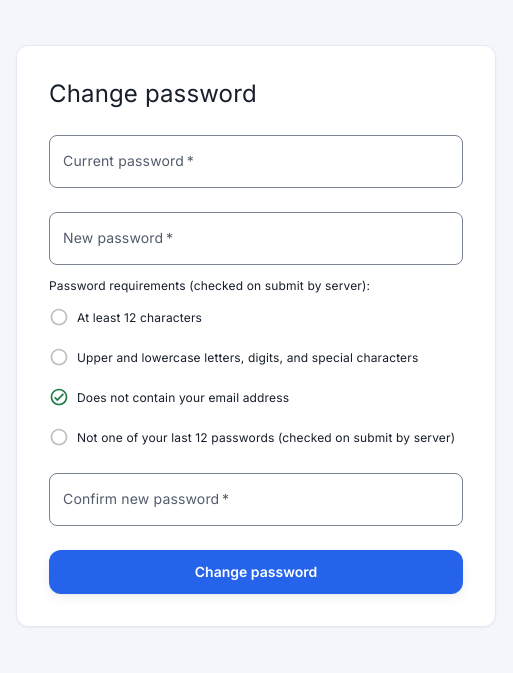
Scenario: ChangePasswordPage › new/confirm mismatch shows non-disclosing message and no submit
Type "Abc123!@#xyz12" into the password field labelled "New password *". click: (256, 238)
box: [49,212,463,265]
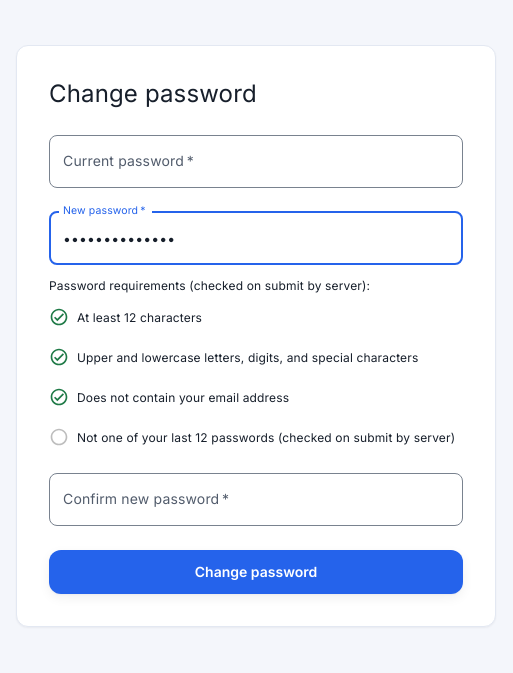
Type "Different1!@#xyz" into the password field labelled "Confirm new password *". click: (256, 499)
box: [49,473,463,526]
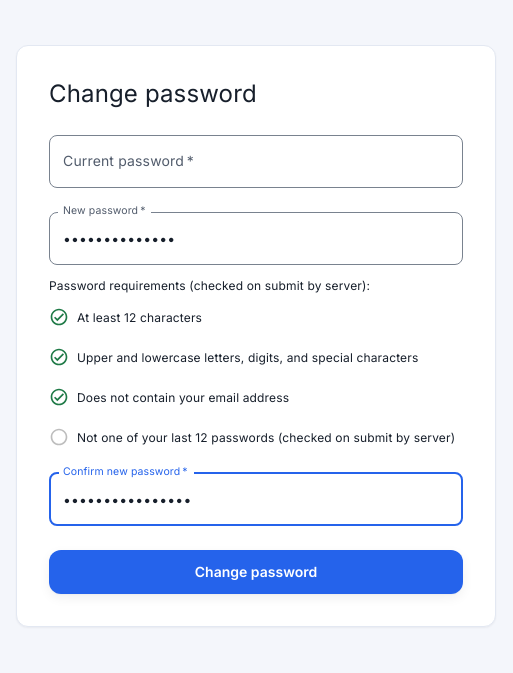
Click the button "Change password". click: (256, 572)
box: [49,550,463,594]
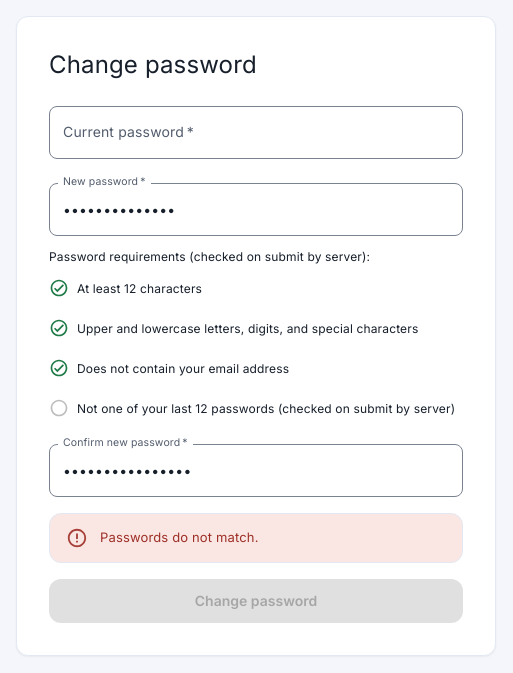
Now the message "Passwords do not match." is shown, box [49,513,463,563]
